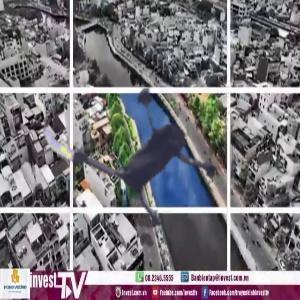drone: (41, 38, 248, 245)
